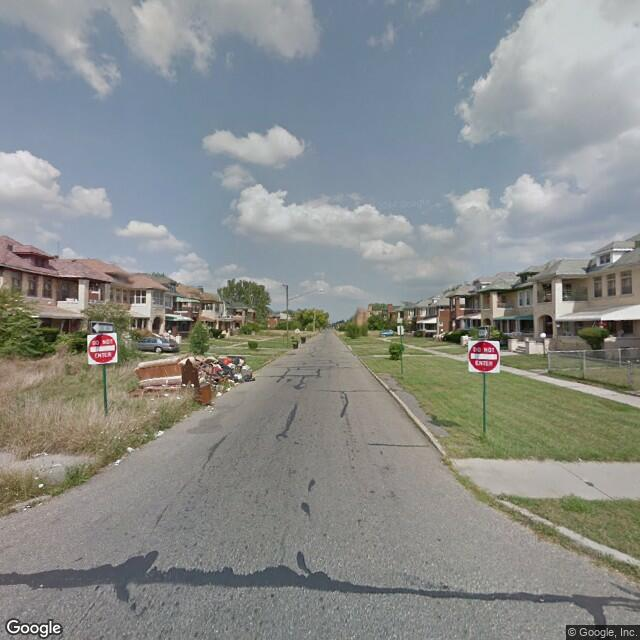litter: (203, 356, 253, 385), (20, 502, 49, 510), (123, 443, 140, 453), (198, 404, 215, 414), (37, 472, 46, 488), (152, 428, 161, 443), (109, 461, 125, 469), (159, 391, 170, 402)
